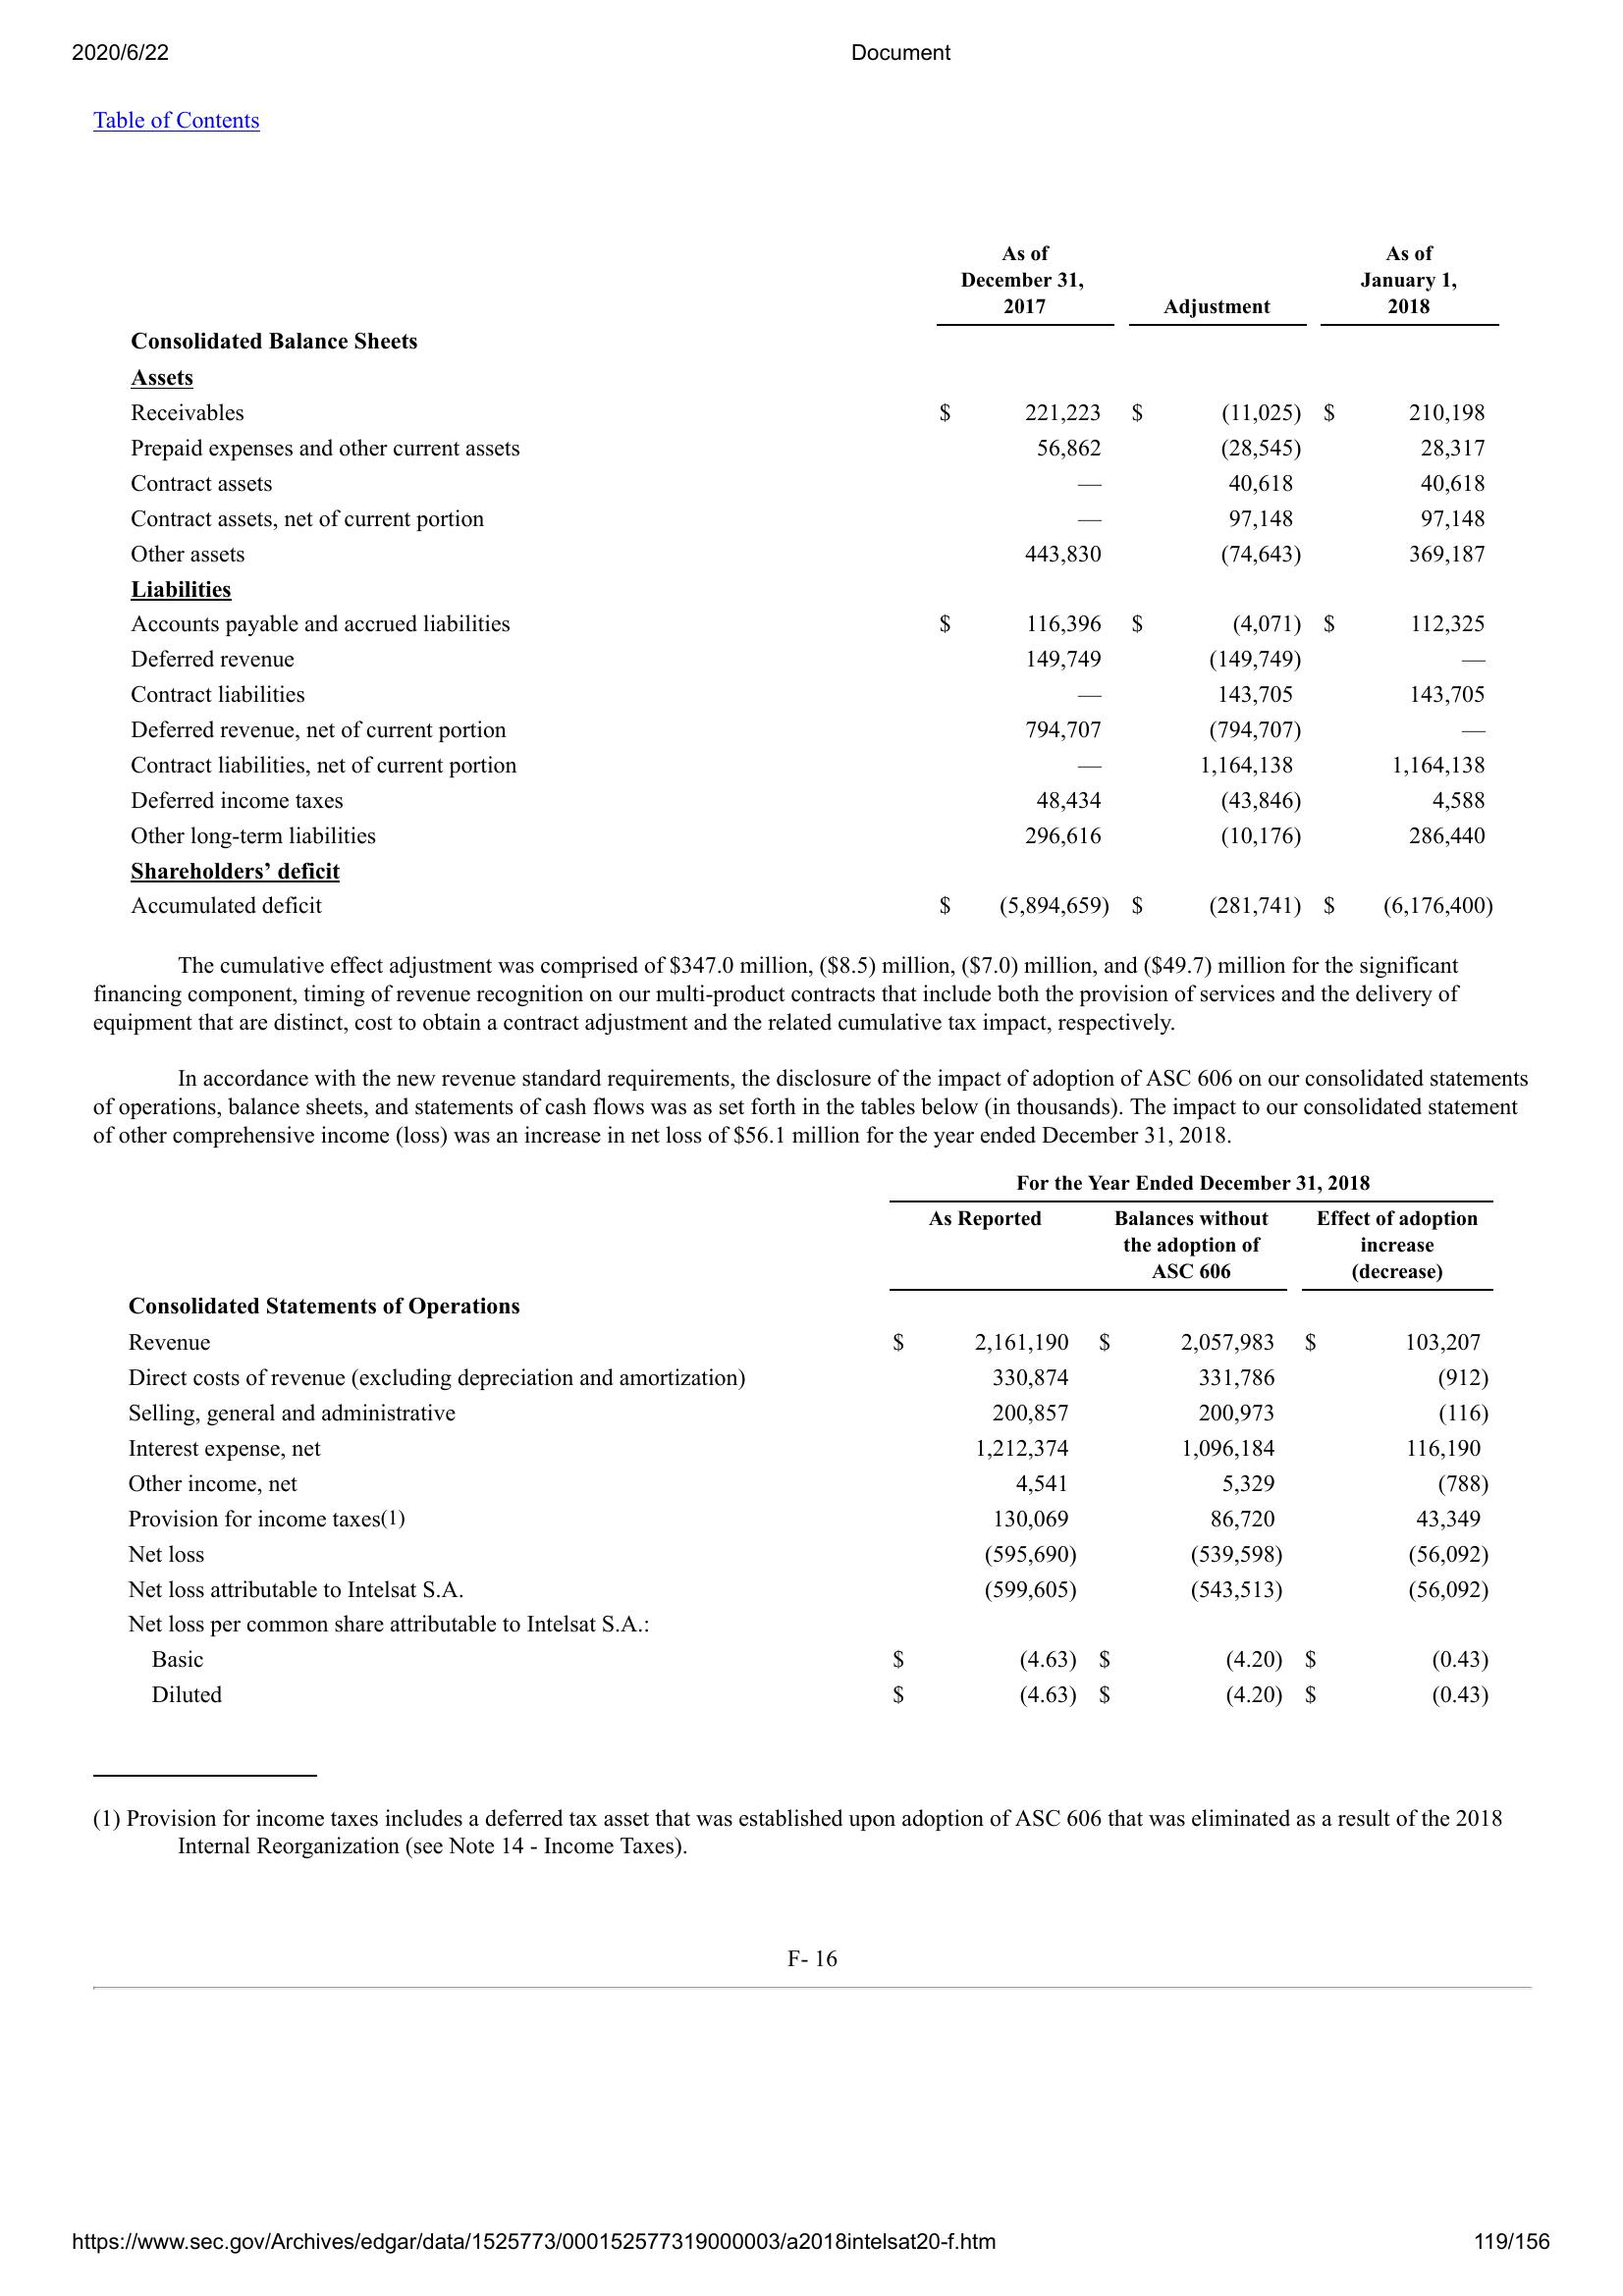table: (116, 235, 1504, 925), (116, 1166, 1500, 1713)
